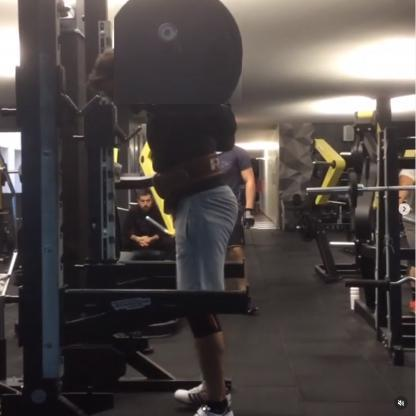barbell: (115, 1, 244, 106)
